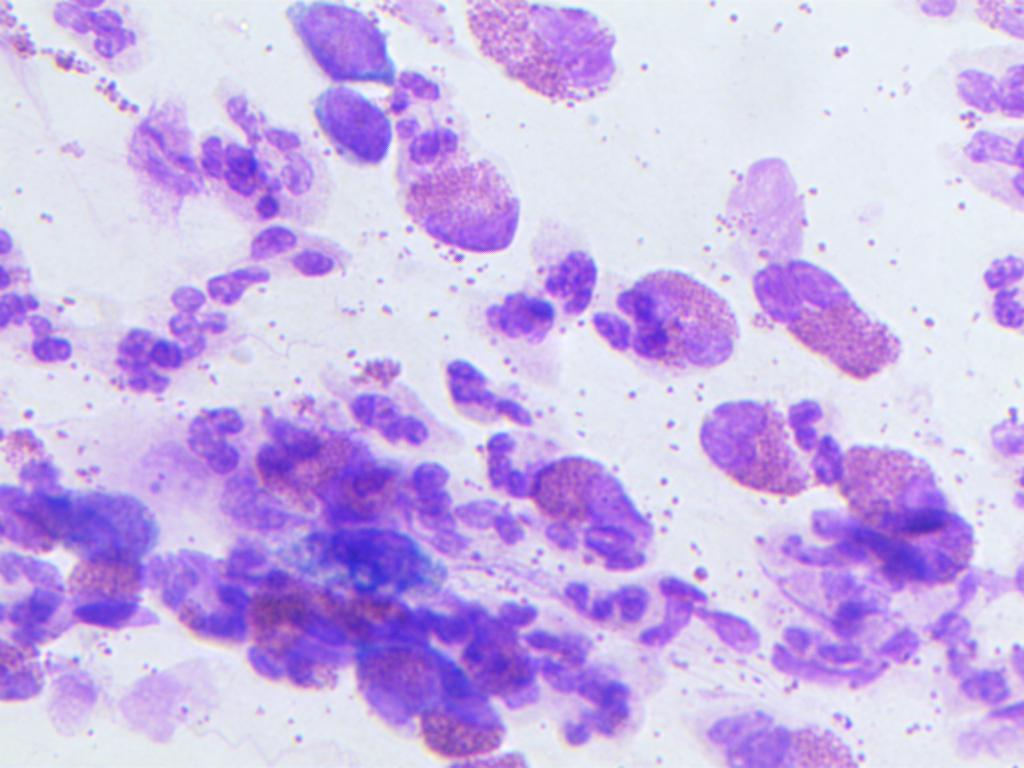eosinophil: (807, 416, 978, 591), (743, 254, 912, 382), (509, 451, 669, 577), (590, 257, 746, 384), (463, 0, 640, 110), (425, 592, 559, 713), (253, 408, 395, 517), (237, 579, 362, 694), (695, 386, 802, 508), (409, 162, 532, 264), (695, 701, 880, 768), (150, 526, 250, 648), (274, 0, 398, 91), (344, 648, 461, 733), (418, 697, 536, 768), (62, 545, 142, 636), (0, 603, 58, 709)
lymphocyte: (298, 83, 392, 168)
neutrophil: (109, 279, 245, 410), (195, 91, 317, 223), (945, 44, 1024, 234), (771, 602, 915, 706), (0, 214, 86, 377), (530, 626, 652, 740), (471, 238, 600, 345), (205, 218, 348, 314), (403, 461, 524, 572), (3, 0, 153, 86), (638, 564, 770, 660), (376, 65, 480, 169), (429, 350, 542, 438), (932, 601, 1019, 710), (341, 368, 436, 460), (954, 230, 1024, 348), (468, 412, 554, 504), (431, 349, 535, 424), (557, 568, 658, 638), (185, 404, 253, 479)
